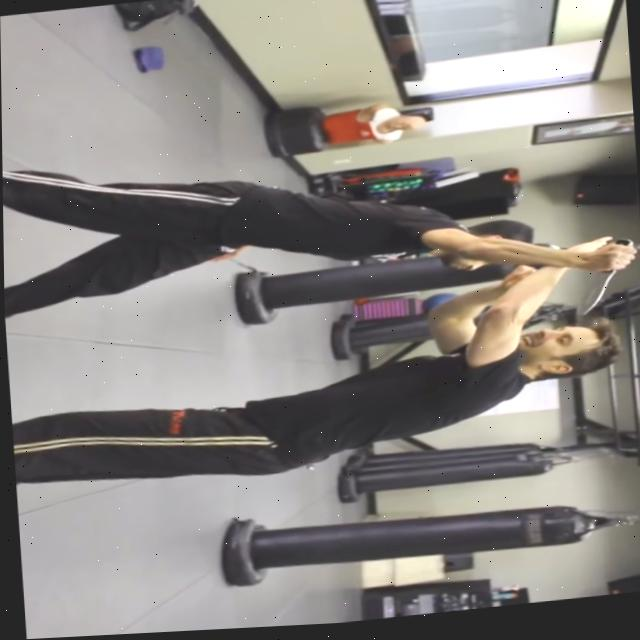knife: (571, 276, 618, 323)
